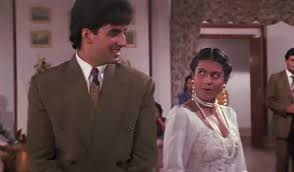Caution: (28, 1, 247, 172)
